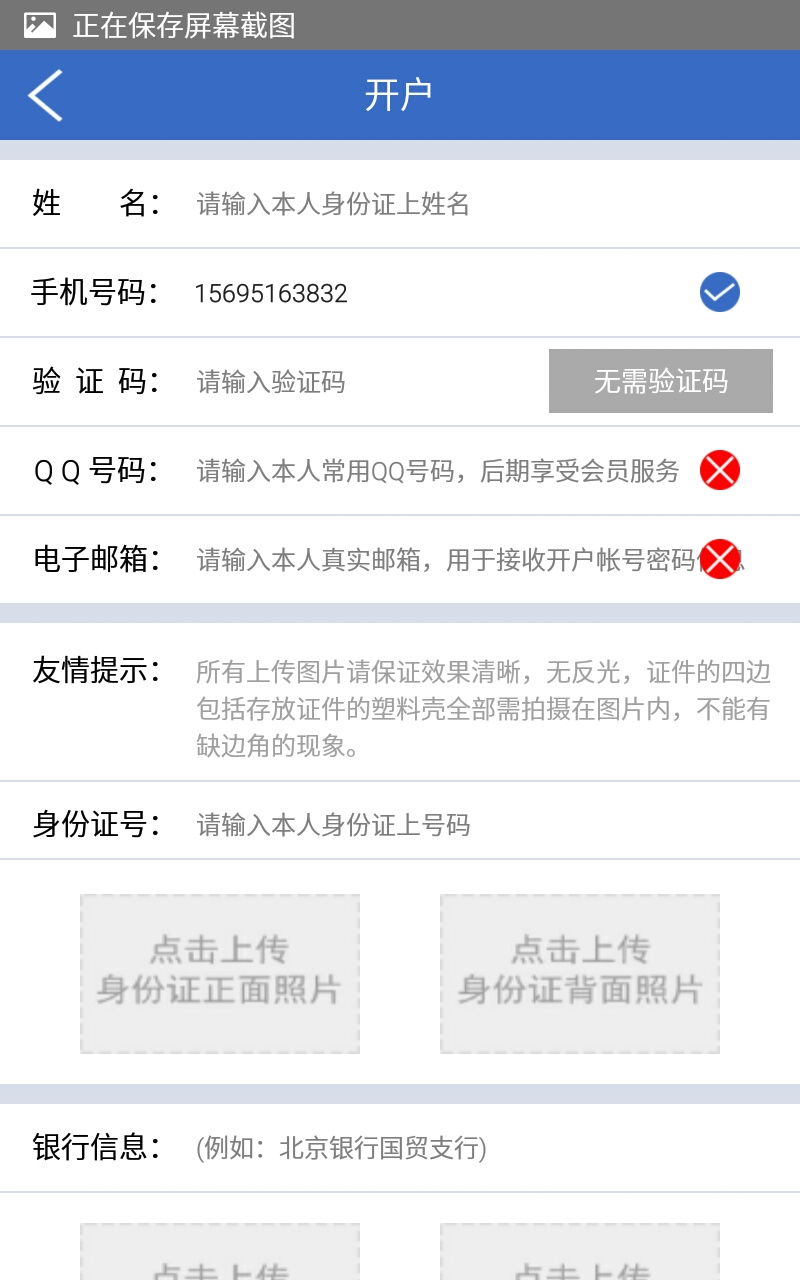button: (541, 344, 780, 415)
imgbutton: (11, 57, 79, 129)
imgview: (79, 880, 371, 1060)
textview: (4, 161, 800, 611), (2, 621, 800, 871)
